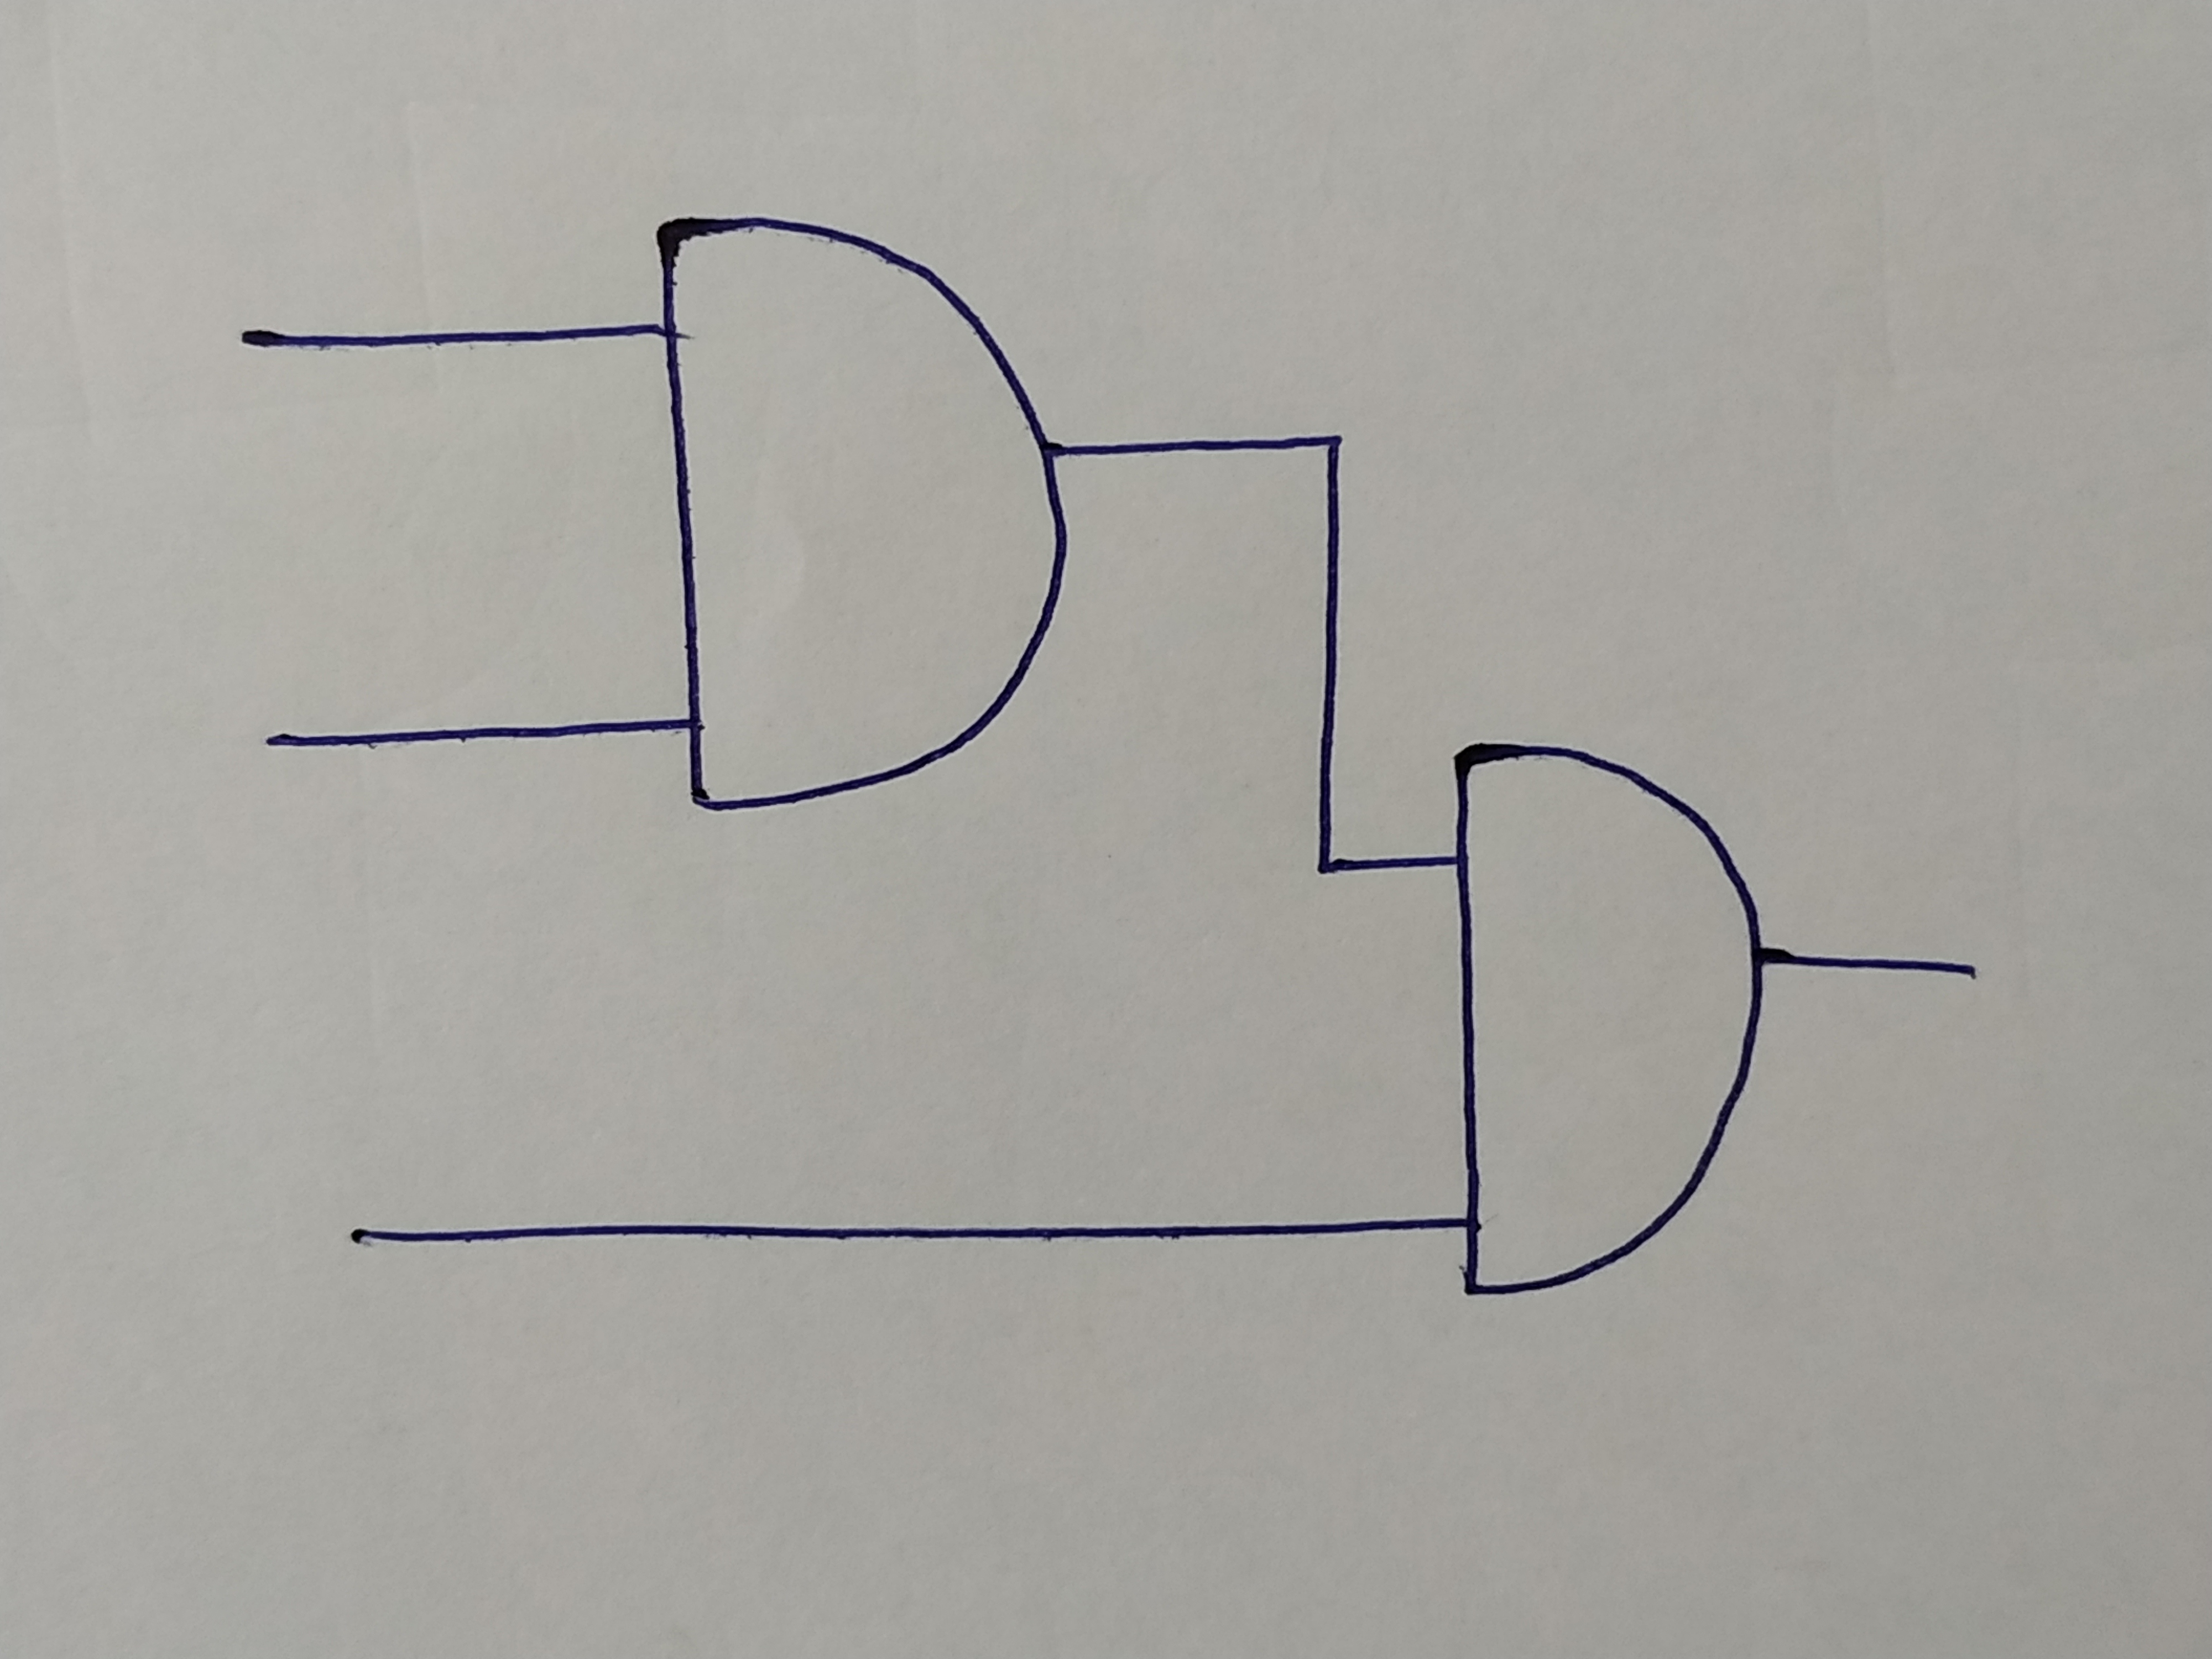and: (651, 216, 1071, 812), (1456, 742, 1768, 1298)
